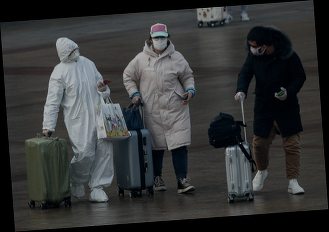with_mask: (152, 35, 169, 52), (249, 41, 264, 58), (68, 47, 81, 62)
